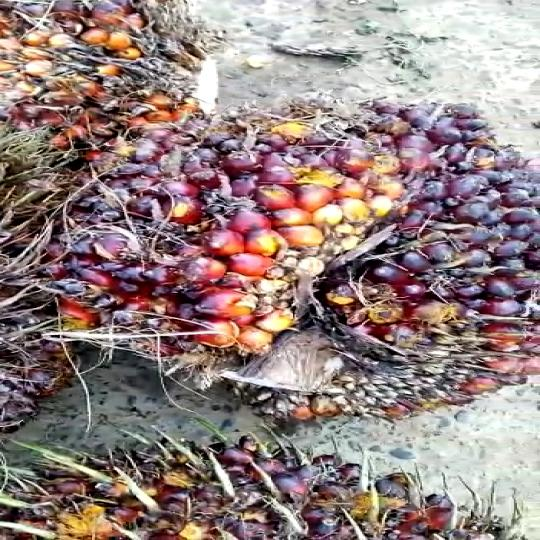masak: (62, 72, 540, 444)
